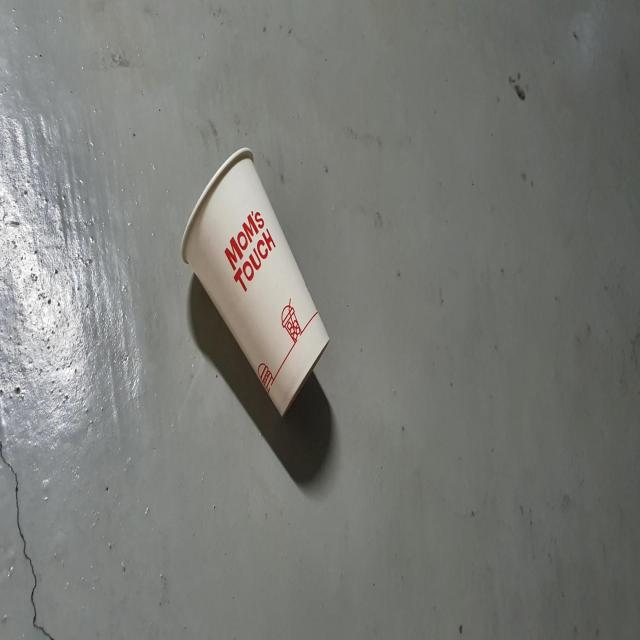paperpack: (181, 147, 329, 415)
